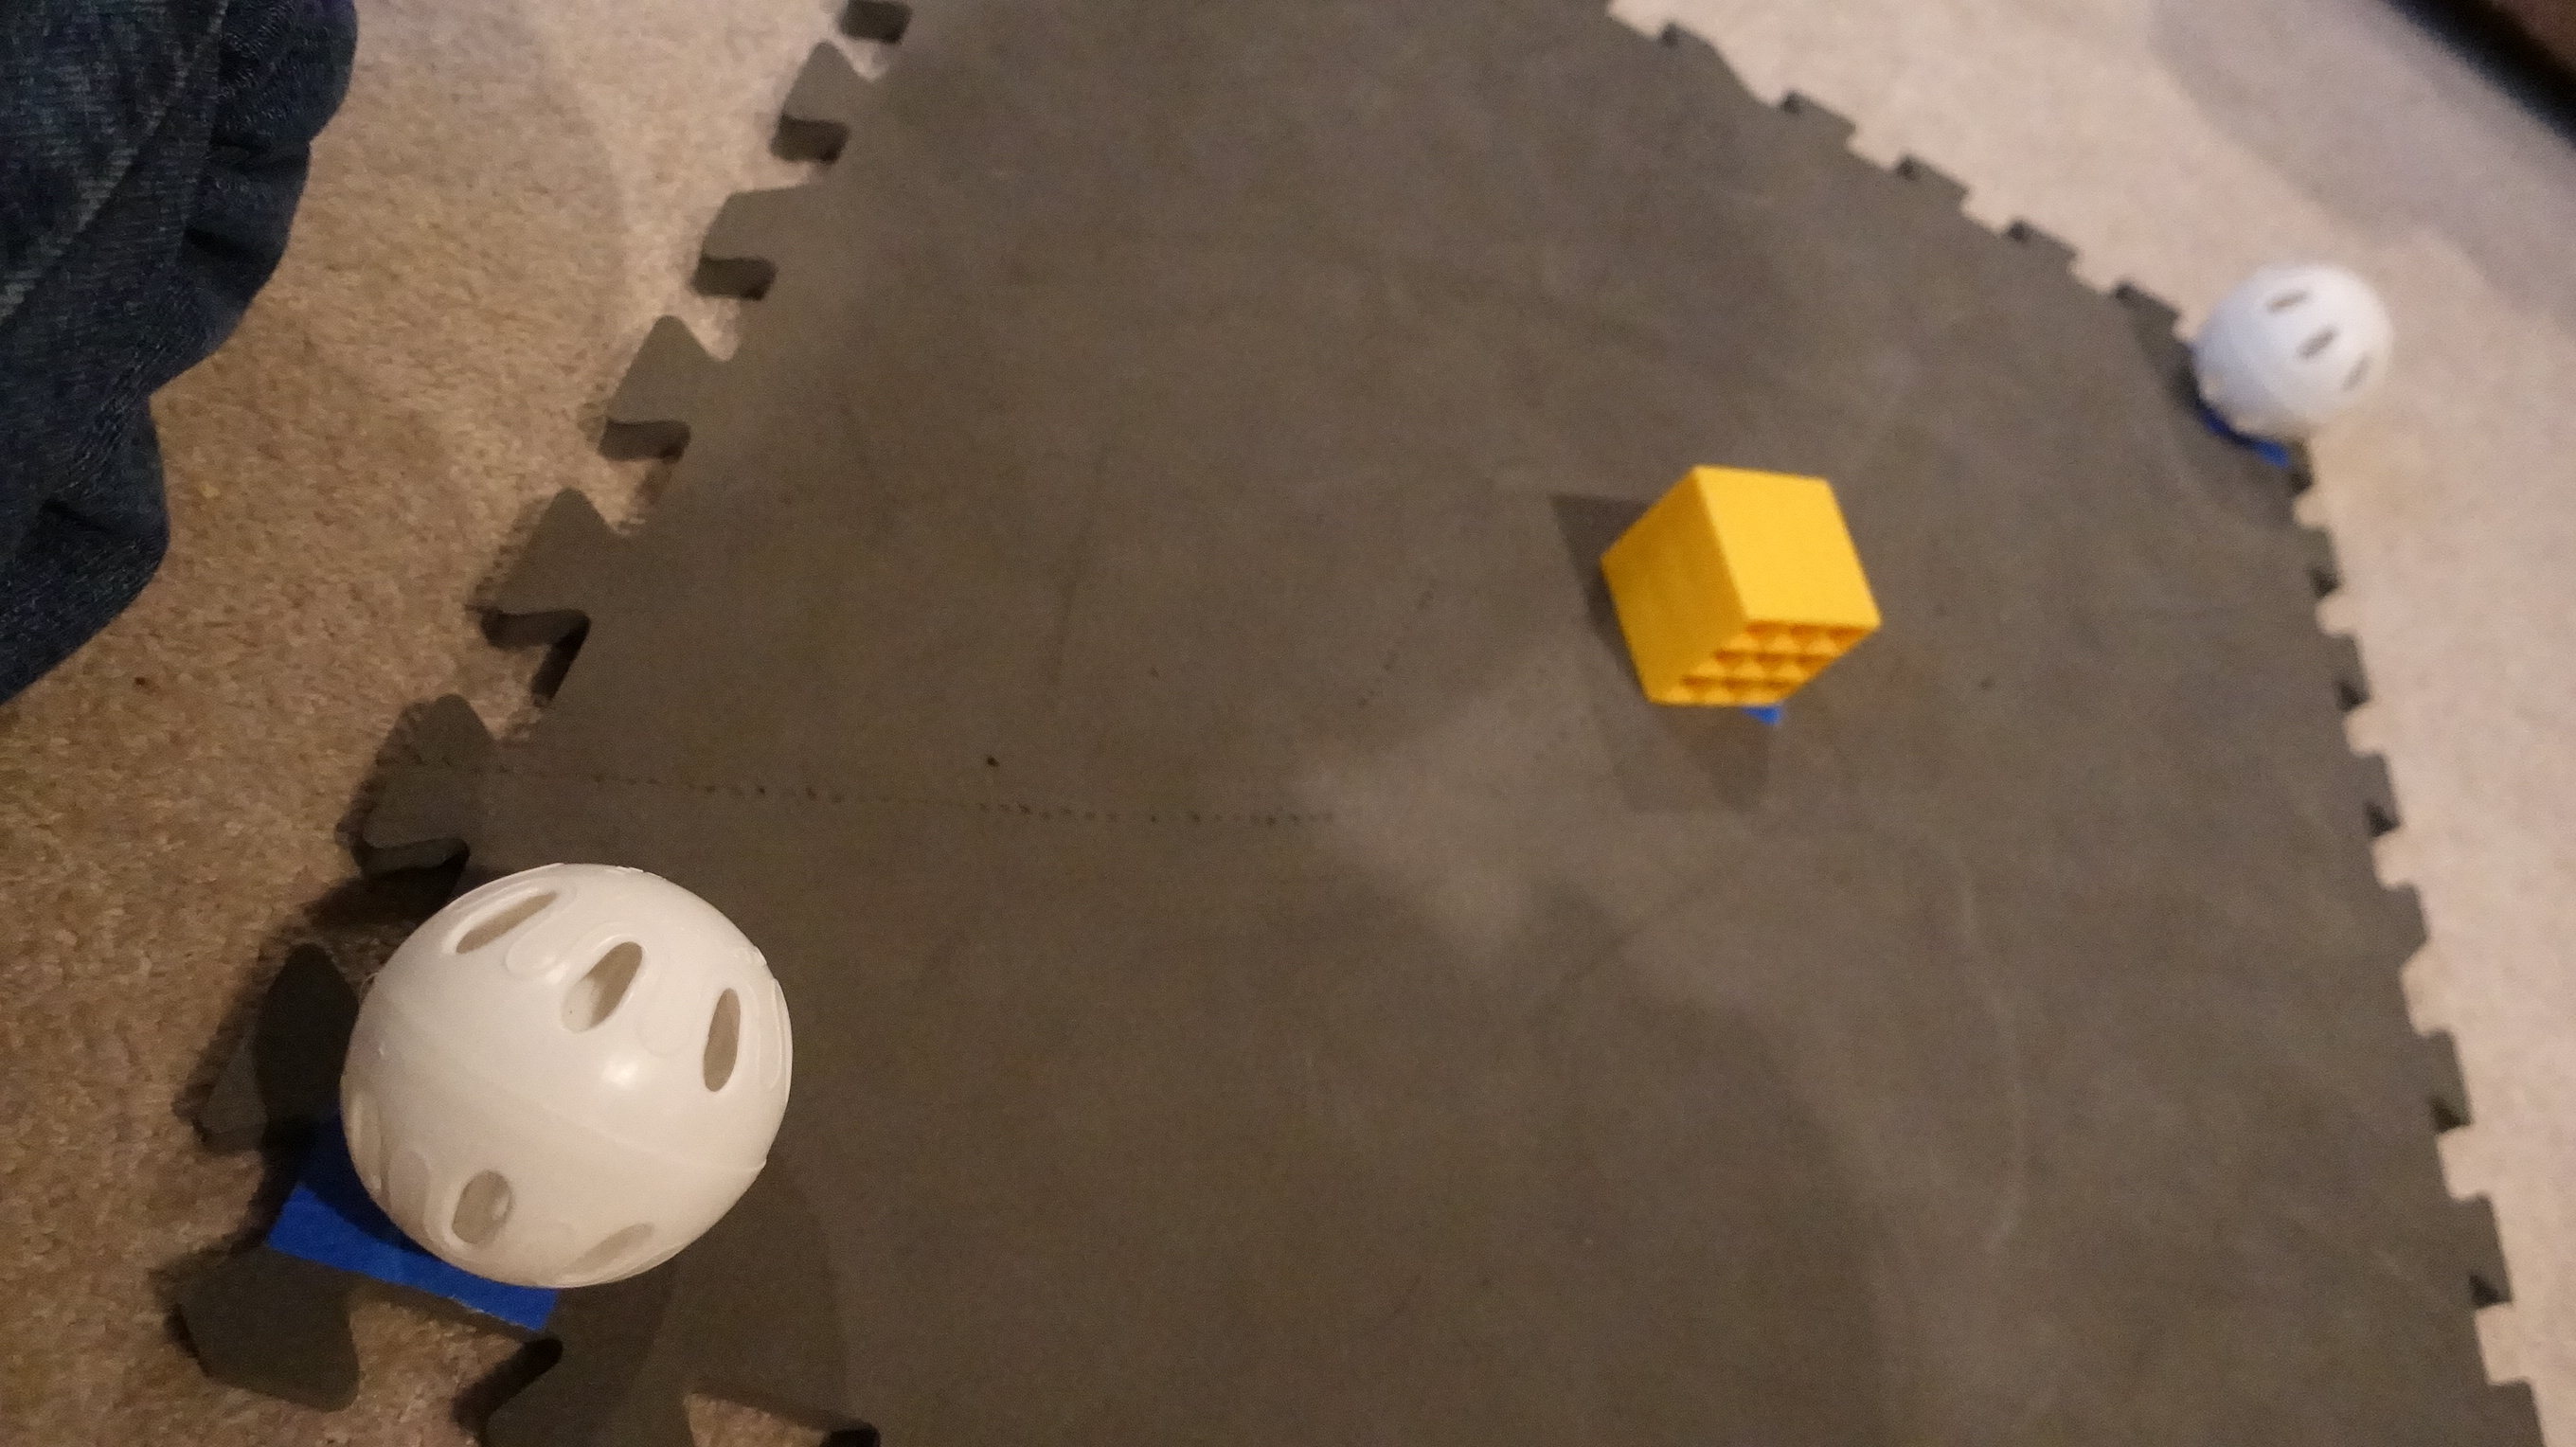gold: (1587, 455, 1884, 720)
silver: (334, 860, 805, 1302), (2183, 249, 2406, 448)
